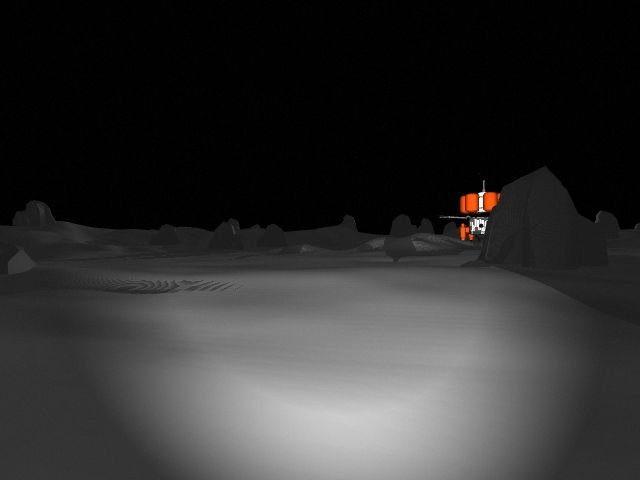homebase: (430, 172, 533, 245)
